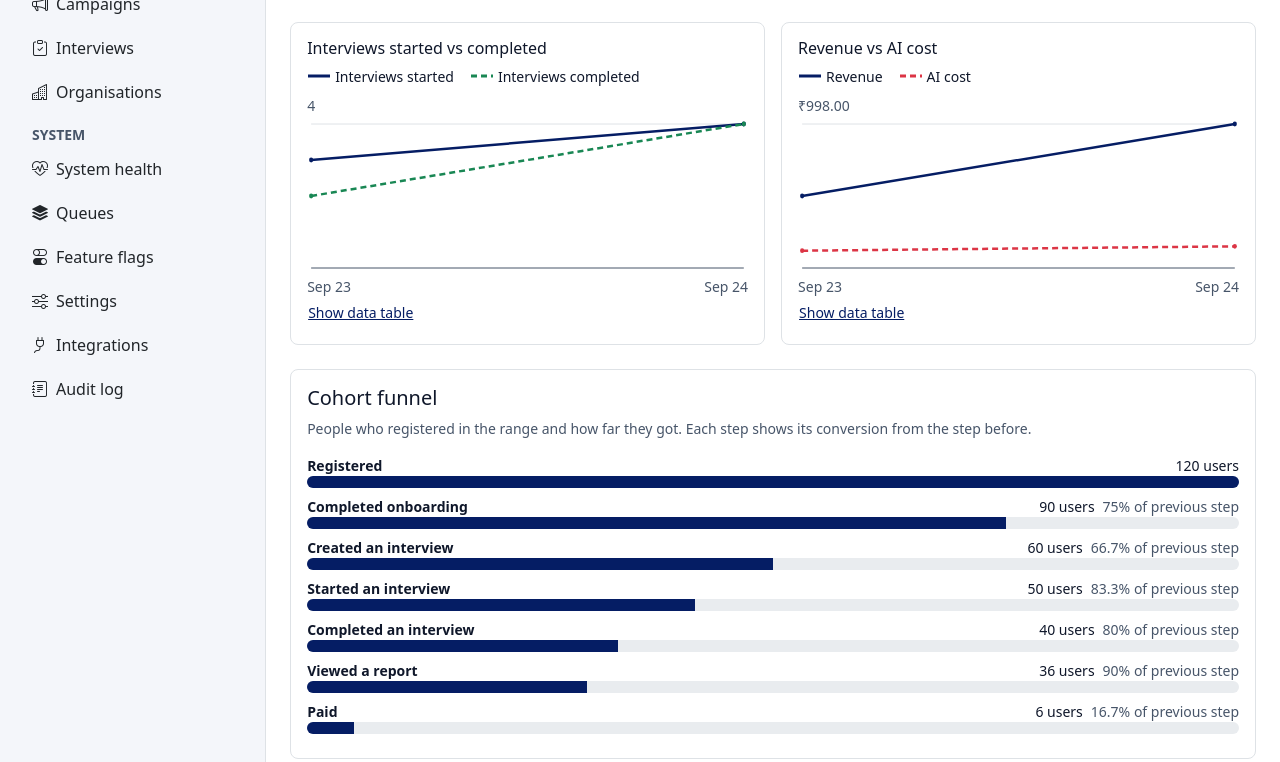
analytics dashboard › shows KPIs against targets, charts, the funnel and provider health
(page scrolled)
Click the button "Show data table" below "Interviews started vs completed": (361, 312) [307,297,414,328]
(page scrolled)
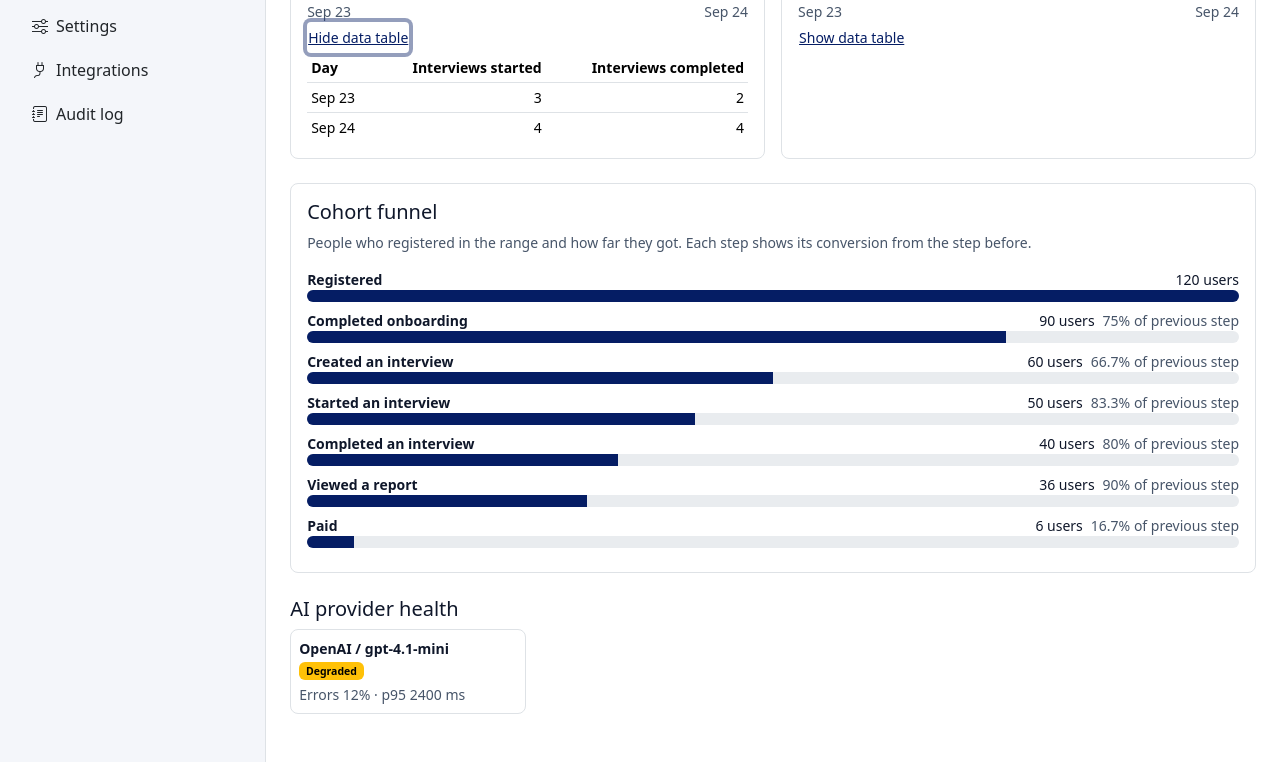
Check: the text "Completed onboarding" is shown, box [307,310,468,331]
Check: the number of rows is 3, box [307,53,748,82]; [307,82,748,112]; [307,112,748,142]
